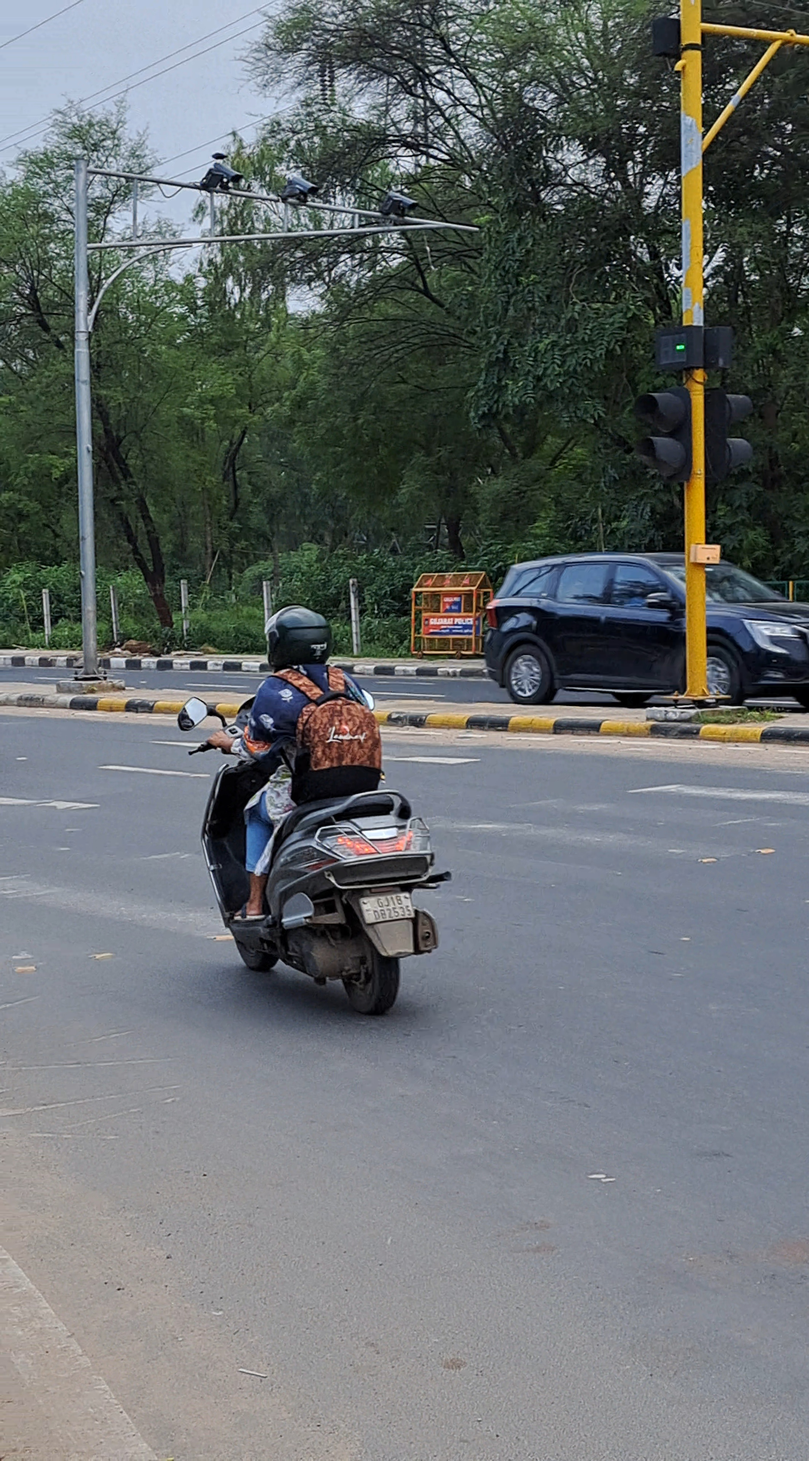BikeWithRider: (147, 599, 463, 1024)
Helmet: (251, 593, 352, 684)
